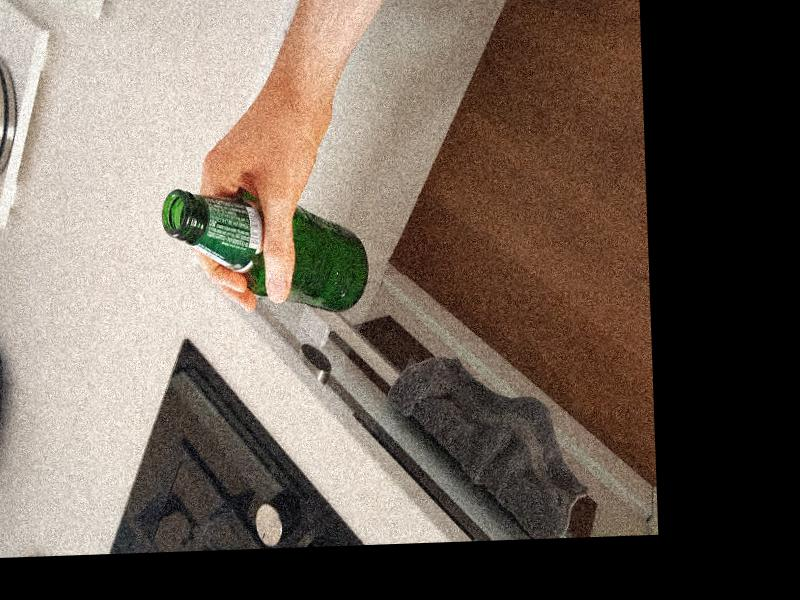Beer: (162, 182, 371, 318)
